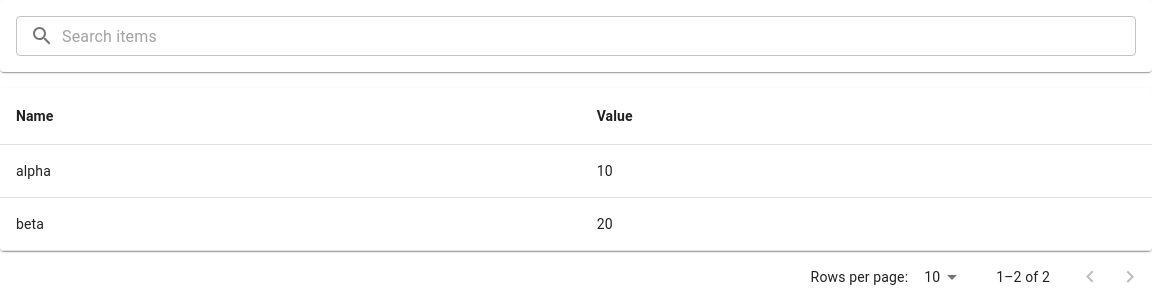
it: DataTable › filters rows via search input
Type "alpha" into the field with placeholder "Search items". click: (599, 36)
box: [62, 16, 1136, 56]
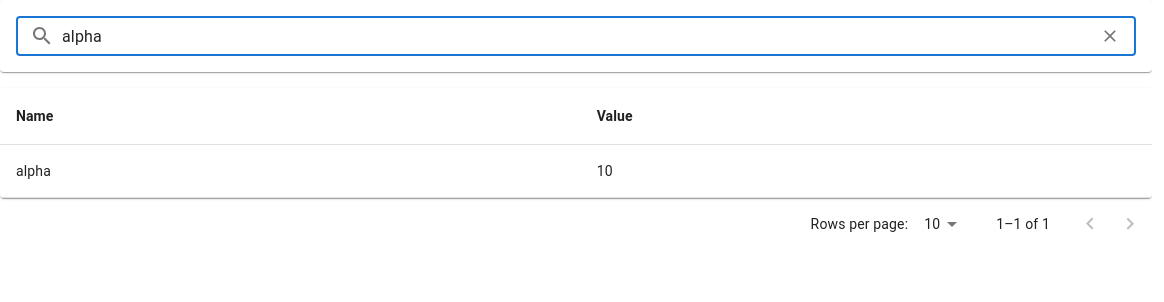
expect the text "alpha" is shown: met, box [0, 145, 581, 198]
expect the text "beta" is gone: met
